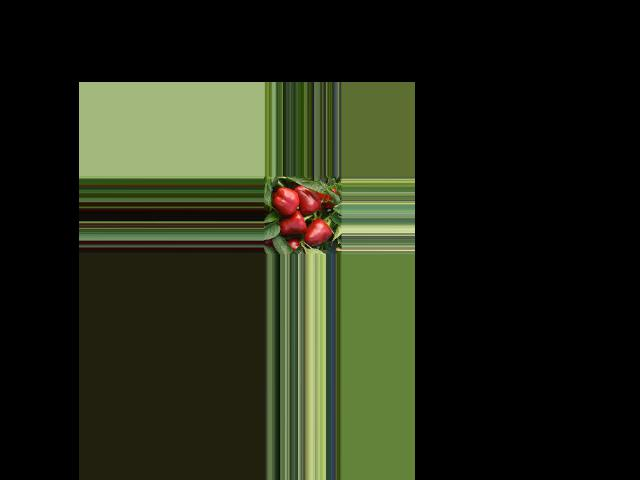bell_pepper: (273, 184, 299, 221)
